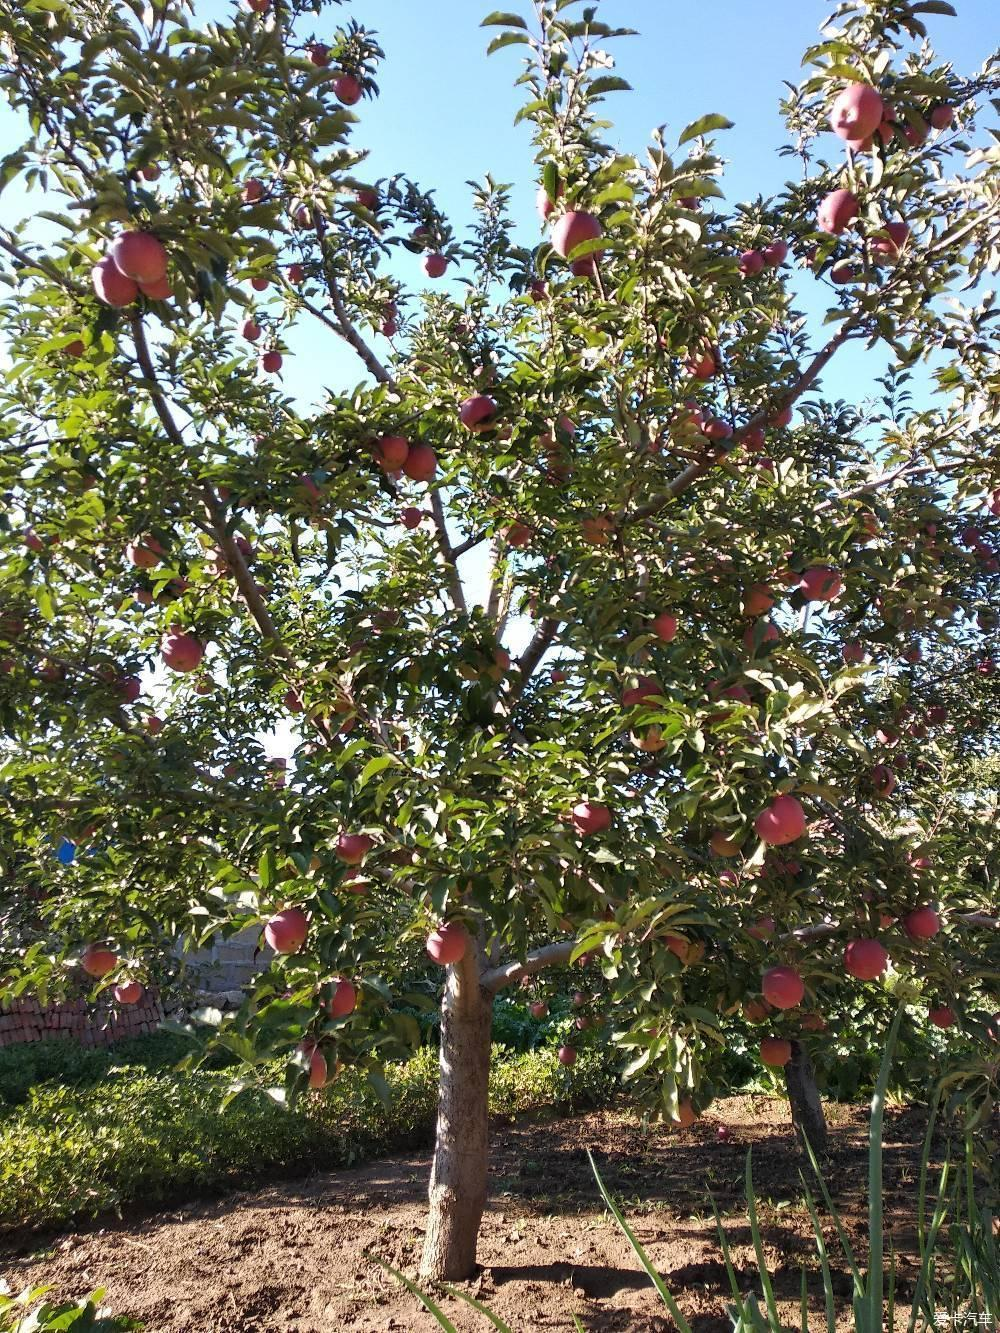apple: (544, 211, 603, 265), (92, 248, 144, 308), (830, 85, 883, 140), (113, 229, 167, 283), (752, 797, 805, 849), (263, 908, 309, 957), (815, 190, 858, 235), (159, 633, 203, 673), (870, 223, 912, 264), (764, 968, 805, 1005), (426, 929, 467, 965), (321, 976, 356, 1019), (458, 396, 498, 433), (845, 941, 886, 977), (374, 436, 411, 473), (401, 445, 434, 484)
